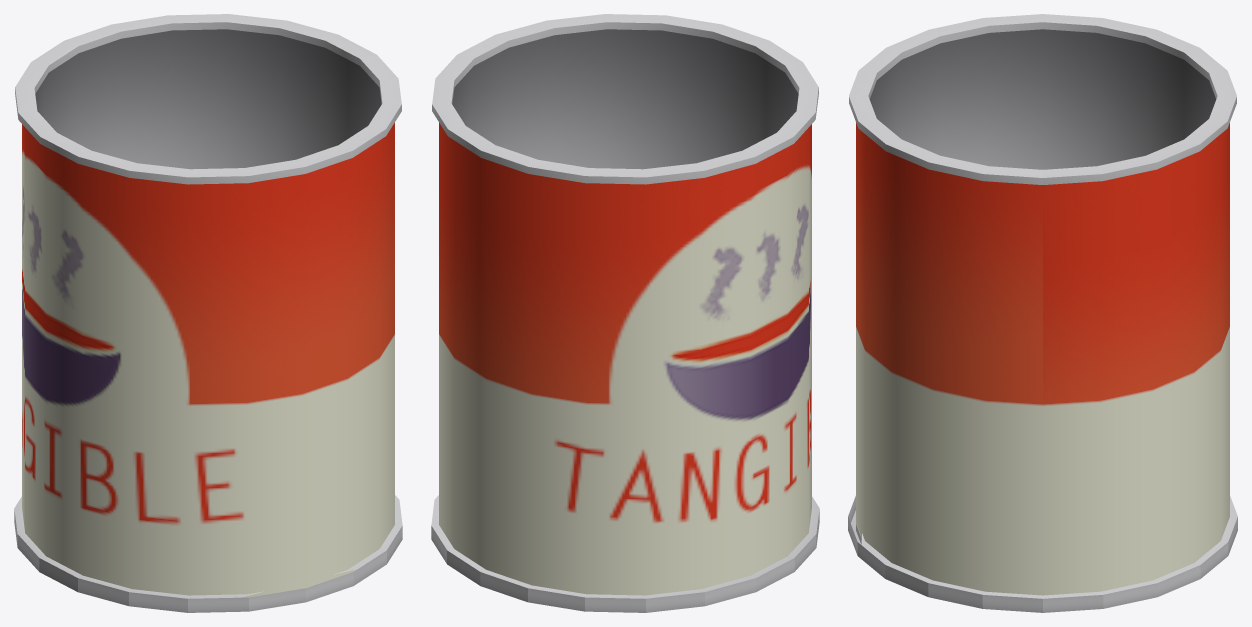
File: CAN.fbx
The picture shows the model from 3 angles, left to right: view 1: azimuth 30°, elevation 25°; view 2: azimuth 150°, elevation 25°; view 3: azimuth 270°, elevation 25°; orthographic projection.
Parts seen in each view (by area): view 1: pPipe1, pPipe2, pCylinder1; view 2: pPipe1, pPipe2, pCylinder1; view 3: pPipe1, pPipe2, pCylinder1.
Boxes of the visible parts, bbox=[...] form: pPipe1: bbox=[22, 29, 394, 597]; pPipe2: bbox=[15, 14, 401, 184]; pCylinder1: bbox=[14, 495, 402, 612]; pPipe1: bbox=[439, 29, 811, 595]; pPipe2: bbox=[432, 14, 818, 184]; pCylinder1: bbox=[431, 495, 819, 612]; pPipe1: bbox=[856, 29, 1229, 595]; pPipe2: bbox=[849, 14, 1236, 184]; pCylinder1: bbox=[848, 496, 1237, 612].
Bounding box in the file's own units: 5 × 6.15 × 5.
